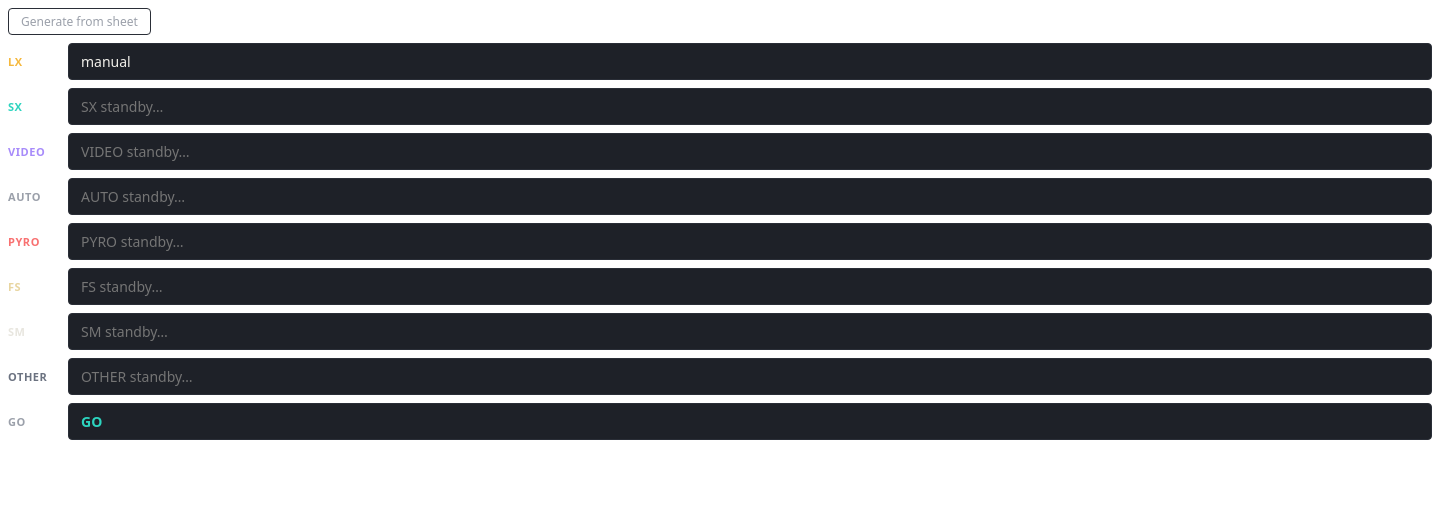
CallerLinesEditor — Generate from sheet › "Keep manual" in confirmation dismisses without applying
The width and height of the screenshot is (1440, 510).
Click the button with test id "caller-generate-btn".
click(79, 22)  # box [8,8,151,35]
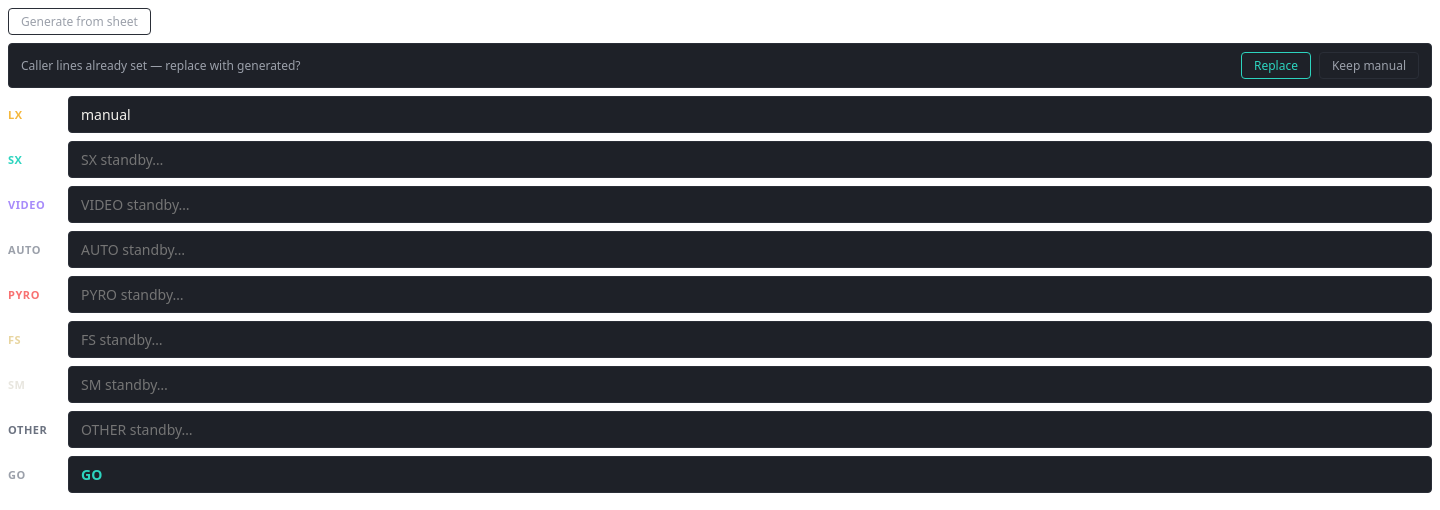
Click the button with test id "caller-generate-keep".
click(1369, 66)  # box [1319,52,1419,79]
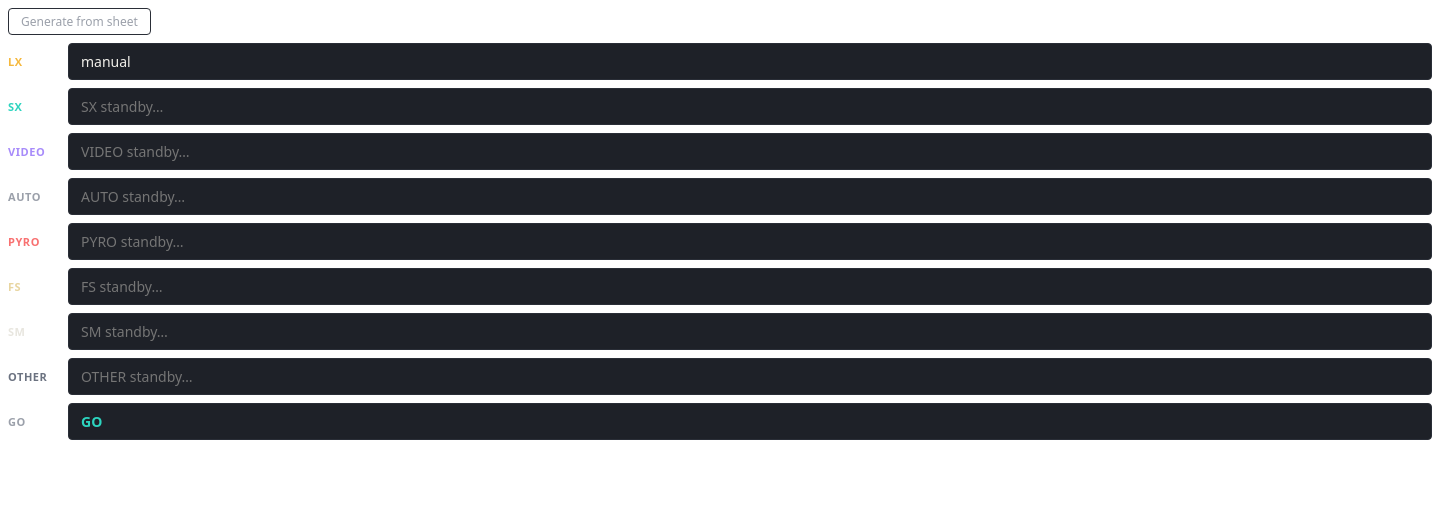
Expected: the element with test id "caller-generate-confirm" is gone
